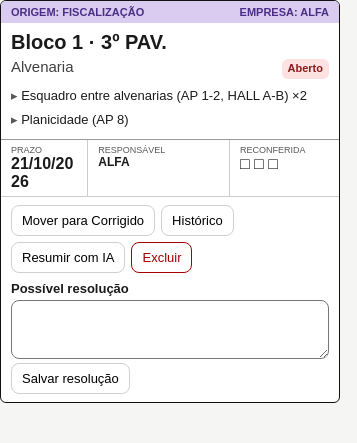
Test case: <CartaoPacote/> — ações do dono › Resumir com IA: troca o pacote e mostra o aviso quando a IA falha
Click the button "Resumir com IA". click: x=68, y=258
box: [11,242,126,273]
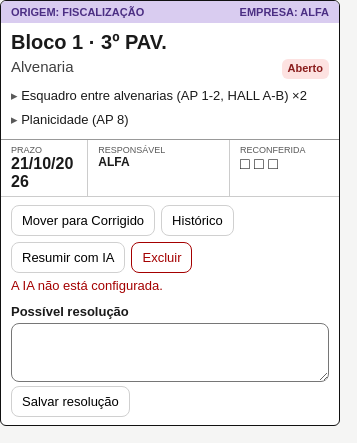
Now the message reads "A IA não está configurada.", box [11,278,163,293]
